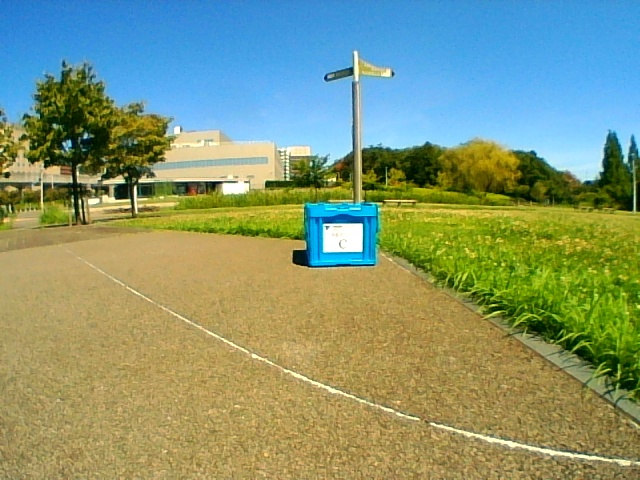blue_box: (306, 204, 375, 265)
tag: (325, 225, 360, 251)
